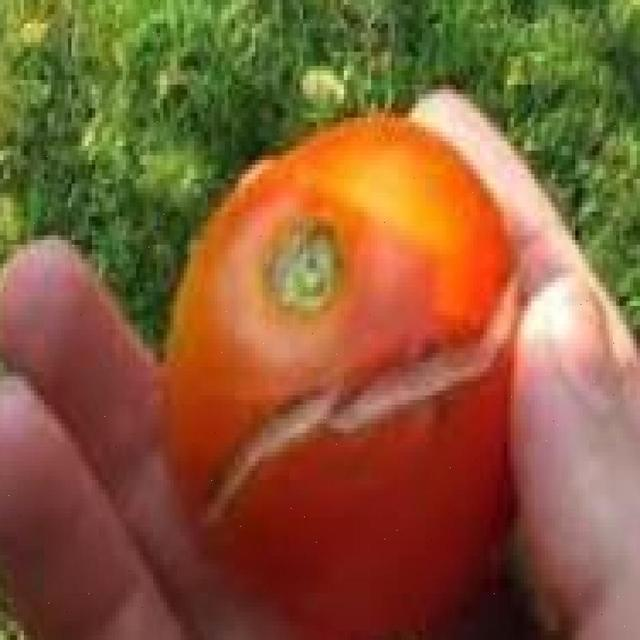Cracking Fruit: (136, 167, 353, 357)
